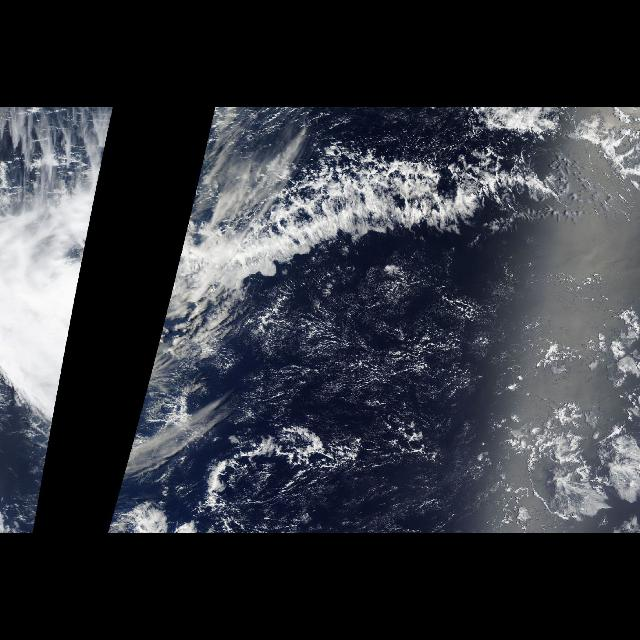Fish: (168, 110, 634, 306)
Sugar: (264, 258, 558, 418)
